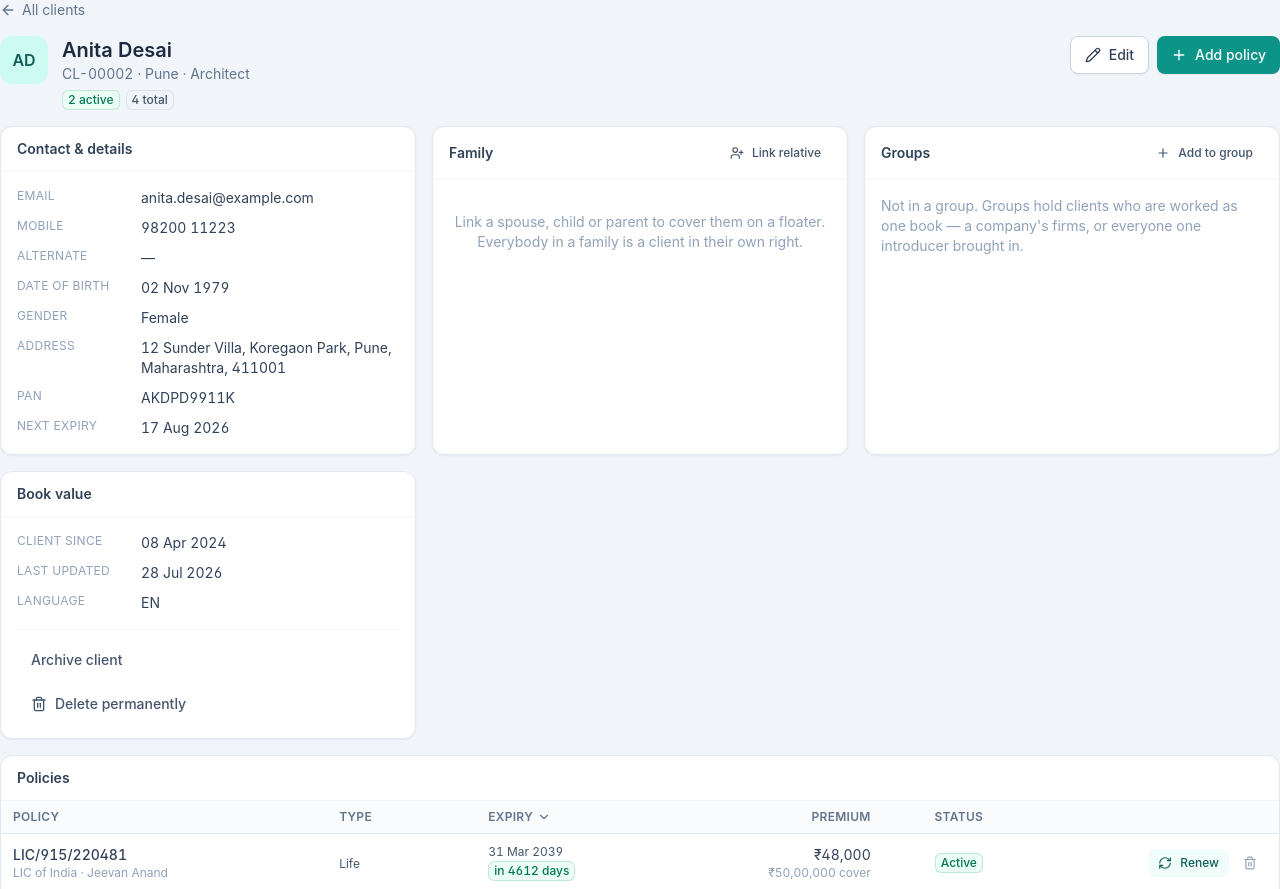
Test case: the client's family › links a client already in the book, without opening a second one for them
The image size is (1280, 889).
Expected: the heading "Anita Desai" is shown, [62,38,172,62]
Step 1. Click the button "Link relative" → (775, 153), box [720,139,831,167]
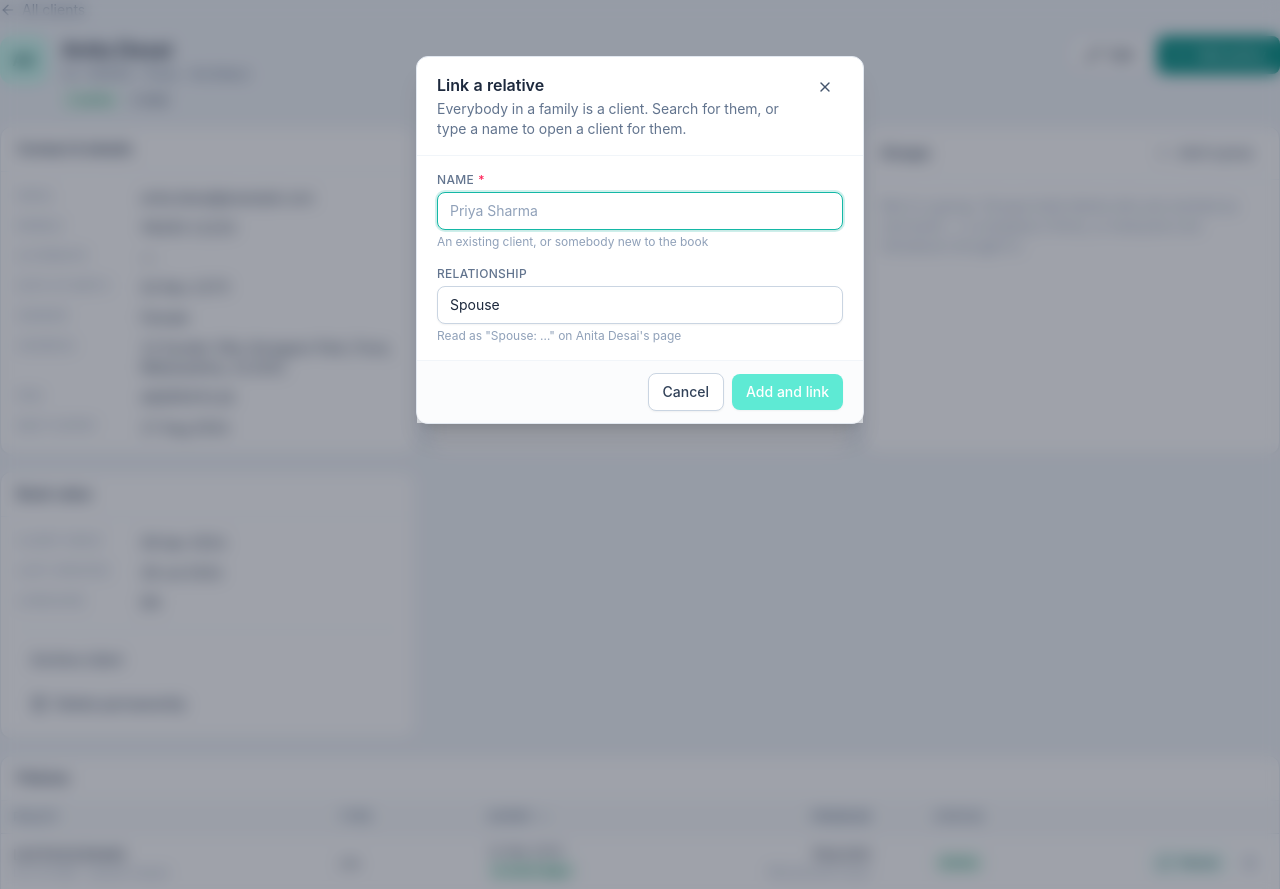
Step 2. Type "Kavita" into the field labelled "Name * An existing client, or somebody new to the book" → (640, 211), box [437,192,843,230]
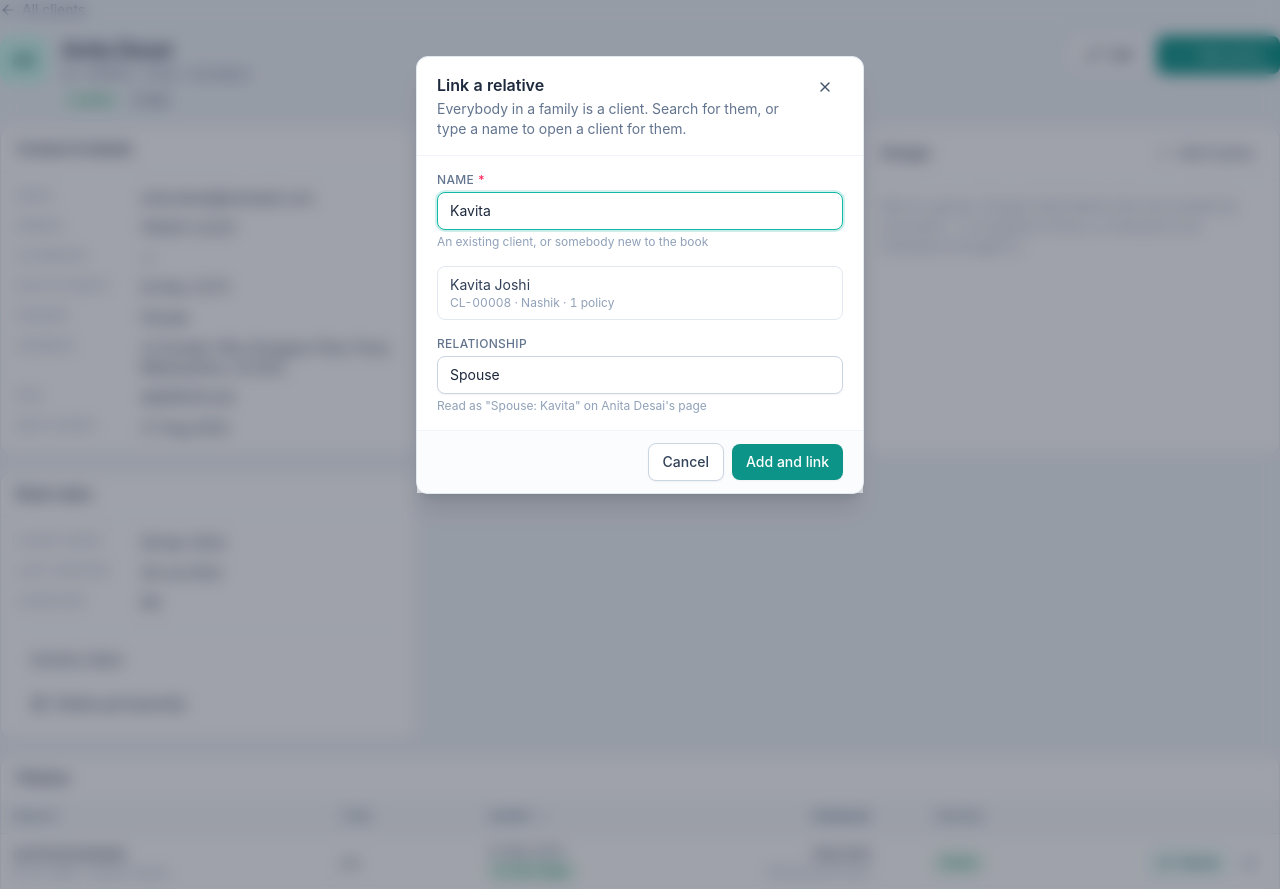
Step 3. Click the button "Kavita Joshi CL-00008 · Nashik · 1 policy" → (490, 284), box [438,267,842,319]
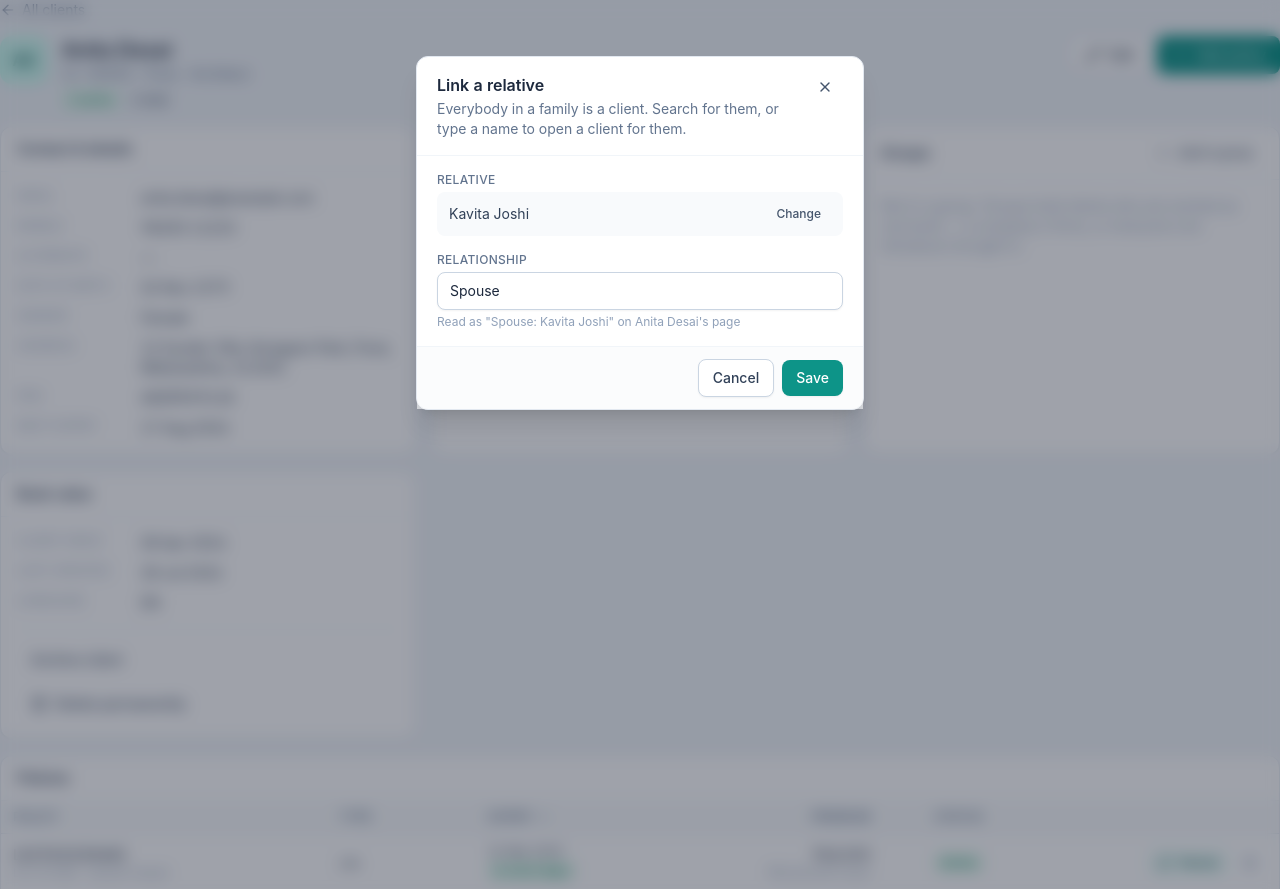
Step 4. Select "Sister" in the dropdown labelled "Relationship" → (640, 291), box [437,272,843,310]
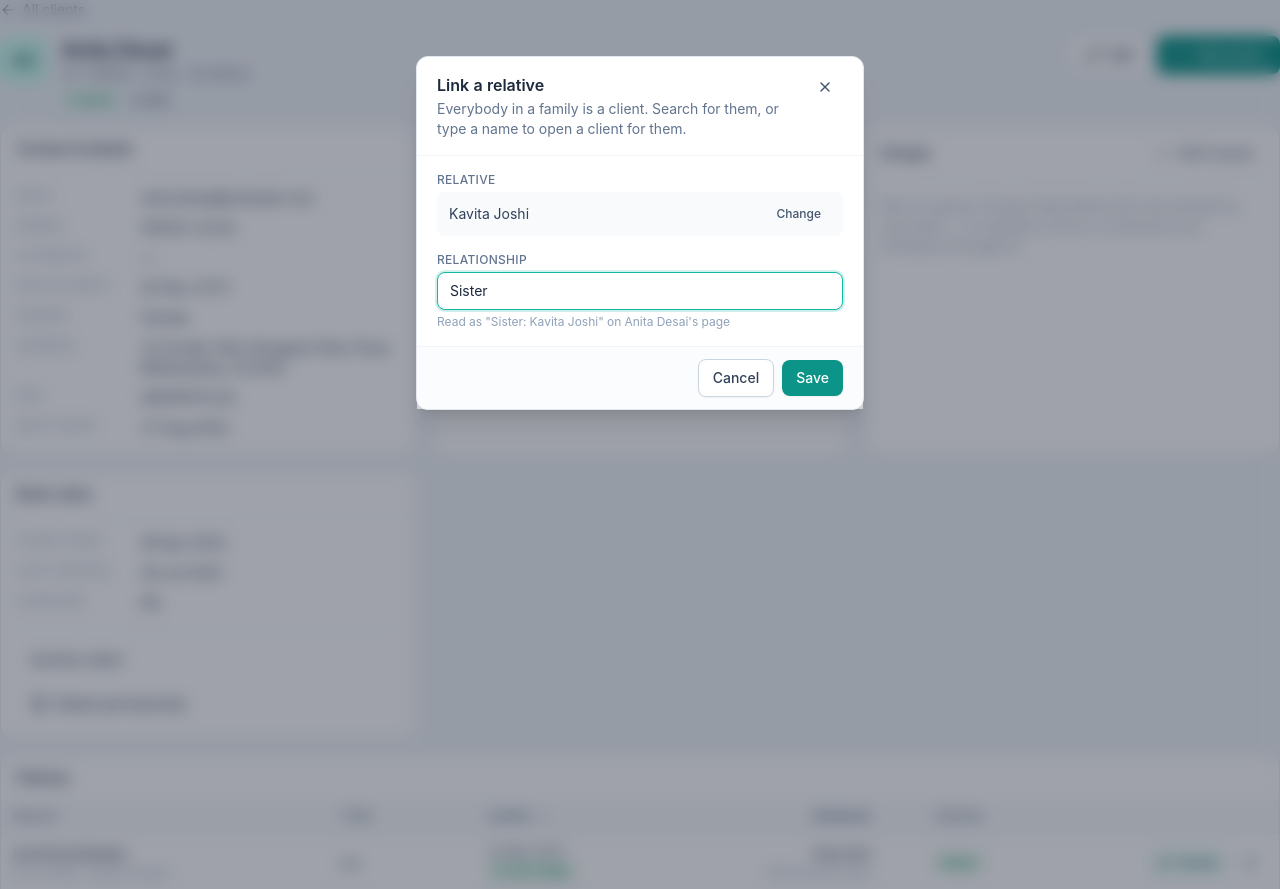
Step 5. Click the button "Save" → (813, 378), box [782,360,843,396]
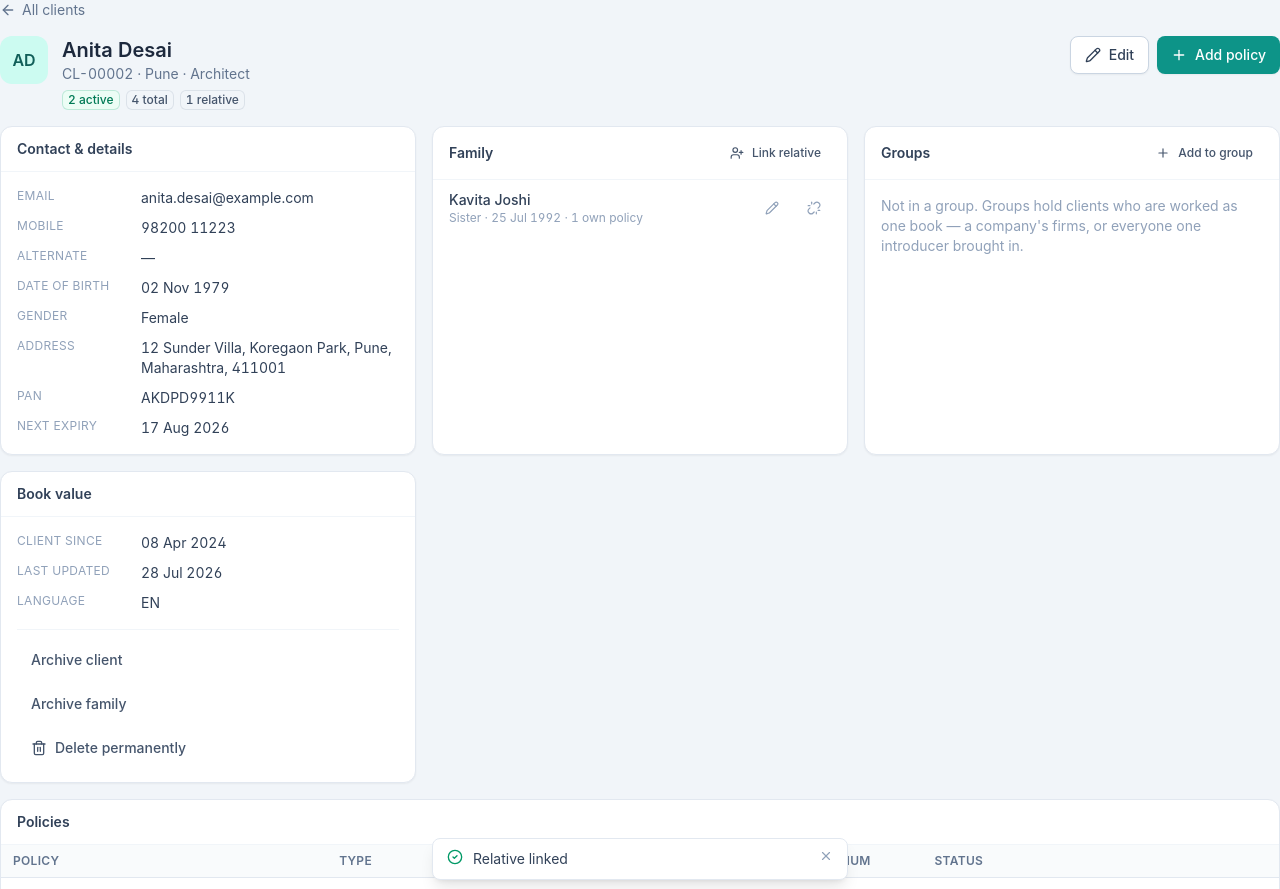
Expected: the text "Kavita Joshi" is shown, [449,191,530,208]
Expected: the text "Relative linked" is shown, [473,850,568,867]
